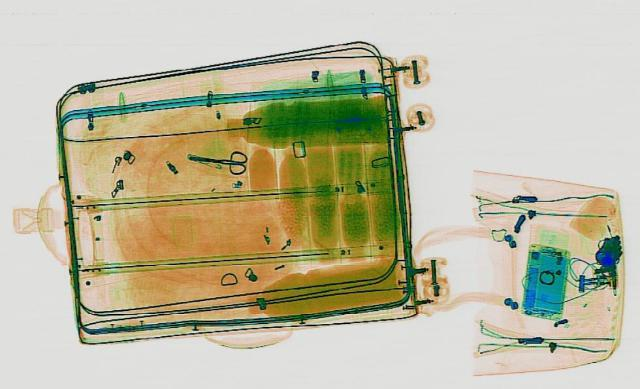Scissors: (180, 143, 254, 176)
